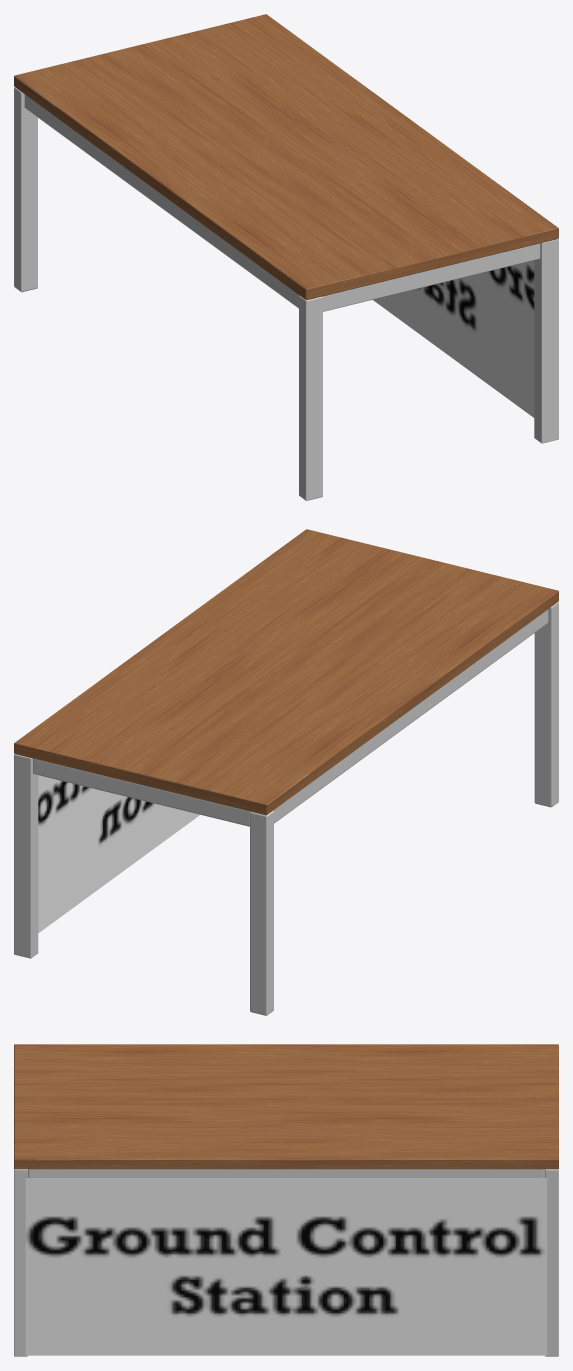
File: gcs_table.dae
3 renders of one model, top to bottom at view 1: azimuth 30°, elevation 25°; view 2: azimuth 150°, elevation 25°; view 3: azimuth 270°, elevation 25°, orthographic. The views are drawn at different scales.
Visible parts, largest first — view 1: OfficeTable, Sign; view 2: OfficeTable, Sign; view 3: Sign, OfficeTable.
Boxes of the visible parts, x1=… form: OfficeTable: x1=14, y1=14, x2=558, y2=500; Sign: x1=373, y1=260, x2=534, y2=417; OfficeTable: x1=14, y1=529, x2=558, y2=1015; Sign: x1=38, y1=775, x2=200, y2=933; Sign: x1=25, y1=1178, x2=547, y2=1355; OfficeTable: x1=14, y1=1044, x2=558, y2=1356.
Size of the model in its own units: 1.01 by 2 by 0.8.
2 materials, 2 textured.
